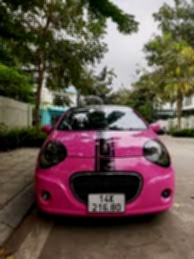Bien-so: (89, 193, 126, 212)
